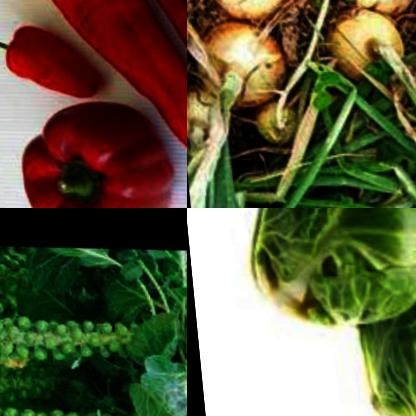bell pepper: (2, 0, 187, 166), (0, 99, 184, 208), (0, 21, 98, 107)
brus capusta: (228, 208, 416, 342), (0, 297, 150, 390), (346, 219, 416, 416), (0, 245, 47, 331)
hot pepper: (88, 0, 187, 121)
onion: (303, 1, 413, 104), (192, 21, 297, 109), (196, 0, 303, 23)
